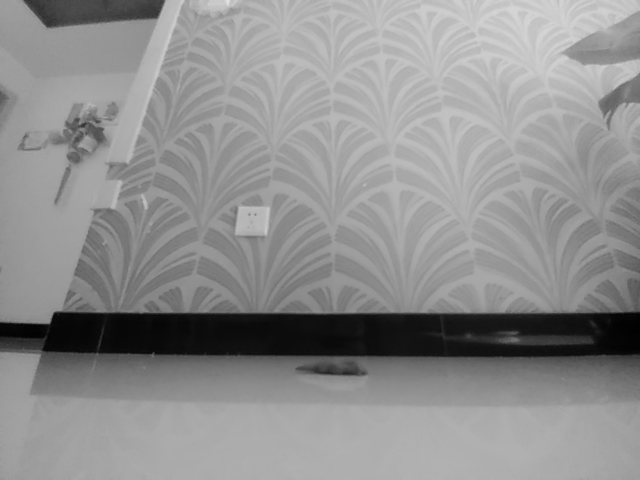pet feces: (295, 359, 369, 379)
